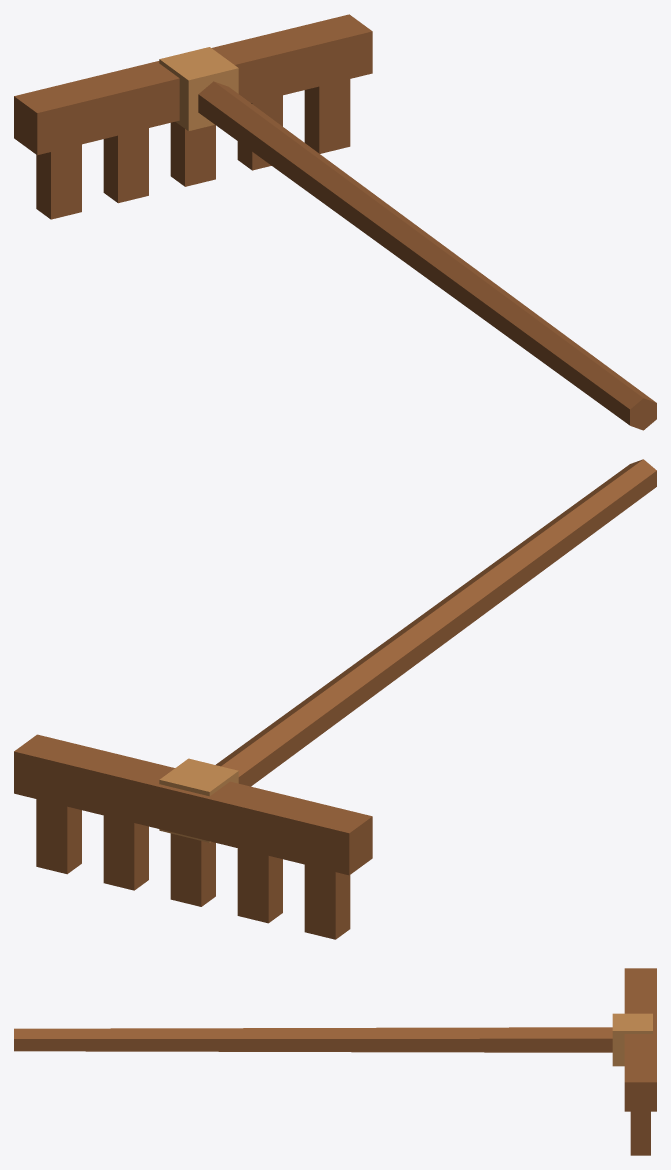
File: sugi.glb
The picture shows the model from 3 angles, top to bottom: view 1: azimuth 30°, elevation 25°; view 2: azimuth 150°, elevation 25°; view 3: azimuth 270°, elevation 25°; orthographic projection. The views are drawn at different scales.
Parts seen in each view (by area): view 1: Head, Handle, tine_4, tine_0, tine_1, tine_2, tine_3; view 2: Head, Handle, tine_0, tine_1, tine_3, tine_4, tine_2; view 3: Handle, Head, tine_4.
Boxes of the visible parts, x1,y1,x2,y2 form: Head: (14, 14, 372, 155); Handle: (198, 81, 656, 430); tine_4: (304, 79, 350, 153); tine_0: (36, 144, 81, 219); tine_1: (103, 128, 148, 203); tine_2: (170, 121, 215, 186); tine_3: (237, 95, 282, 170); Head: (14, 734, 372, 875); Handle: (216, 459, 656, 786); tine_0: (304, 864, 350, 939); tine_1: (237, 848, 282, 923); tine_3: (103, 815, 148, 890); tine_4: (36, 799, 81, 874); tine_2: (170, 833, 215, 906); Handle: (14, 1027, 612, 1052); Head: (612, 968, 656, 1111); tine_4: (630, 1111, 650, 1155).
Size of the model in its own units: 20 by 6.75 by 47.7.
